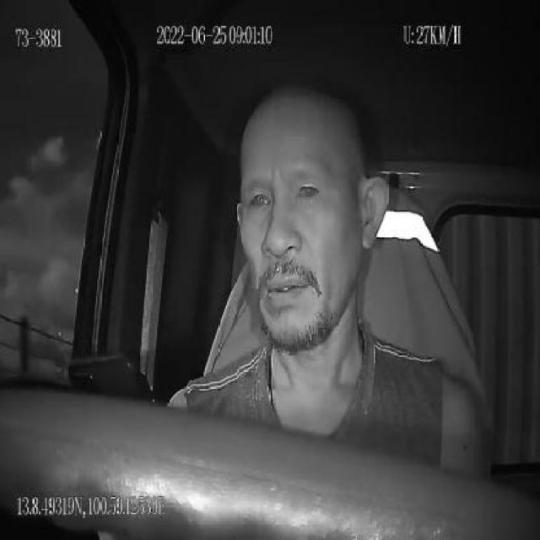phone: (66, 350, 152, 408)
